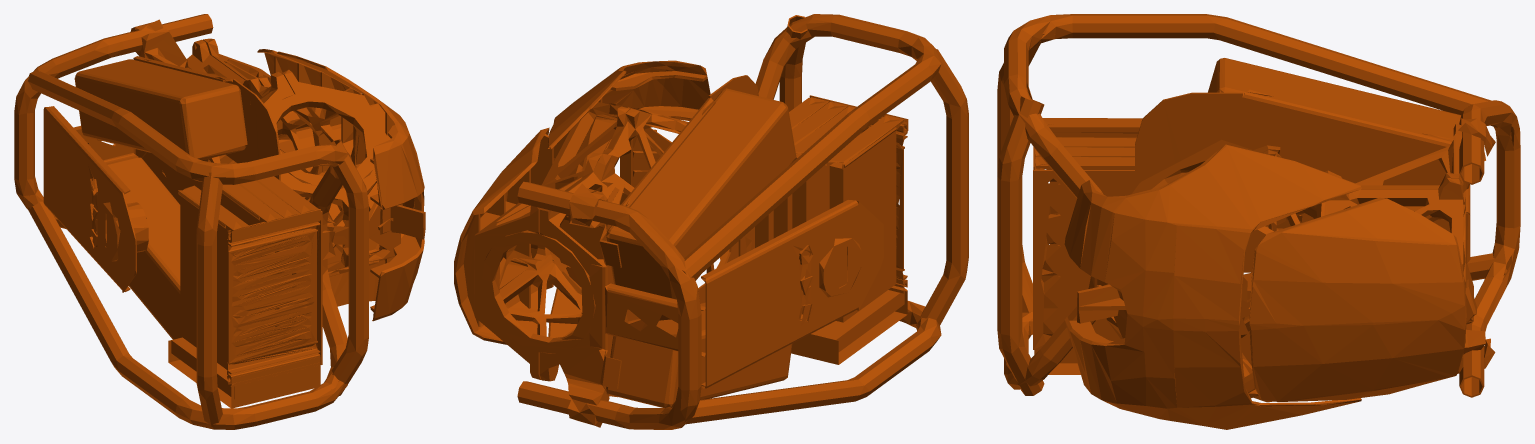
The model's file is trunk.stl.obj.
The picture shows the model from 3 angles, left to right: view 1: azimuth 30°, elevation 25°; view 2: azimuth 150°, elevation 25°; view 3: azimuth 270°, elevation 25°; orthographic projection. The views are drawn at different scales.
Parts seen in each view (by area): view 1: <STL_BINARY>; view 2: <STL_BINARY>; view 3: <STL_BINARY>.
Part boxes in pixels (box(x1,y1,x2,y2)): <STL_BINARY>: box(14, 14, 425, 429); <STL_BINARY>: box(454, 14, 968, 429); <STL_BINARY>: box(997, 14, 1520, 429).
Size of the model in its own units: 0.345 by 0.3027 by 0.4633.
